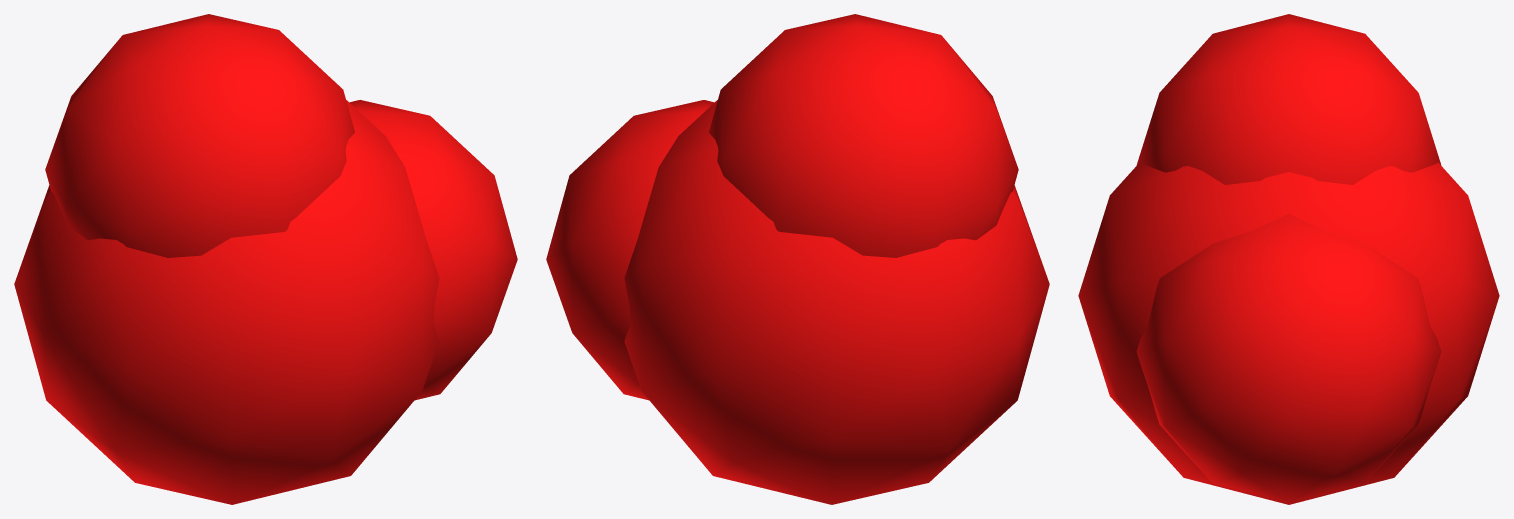
Rendered from water-viewer-spacefill.obj.
3 views of the same model, side by side, from view 1: azimuth 30°, elevation 25°; view 2: azimuth 150°, elevation 25°; view 3: azimuth 270°, elevation 25° (orthographic). The views are drawn at different scales.
Size of the model in its own units: 3.58 by 3.55 by 3.04.
